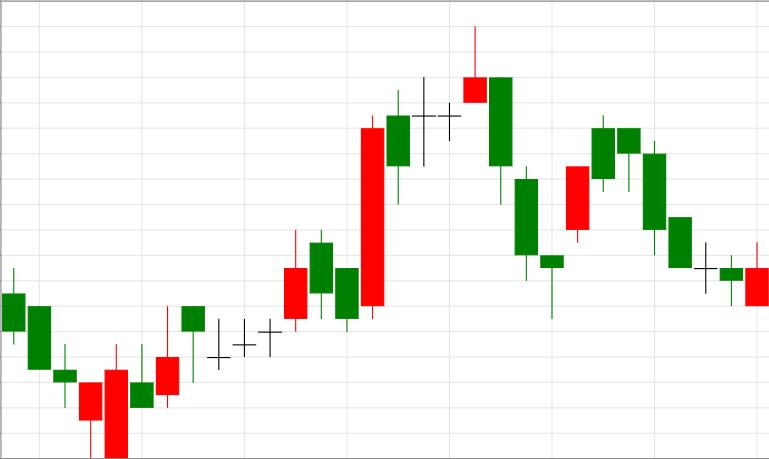morning_star_rise: (463, 26, 589, 319)
shooting_star_fall: (361, 26, 488, 318)
